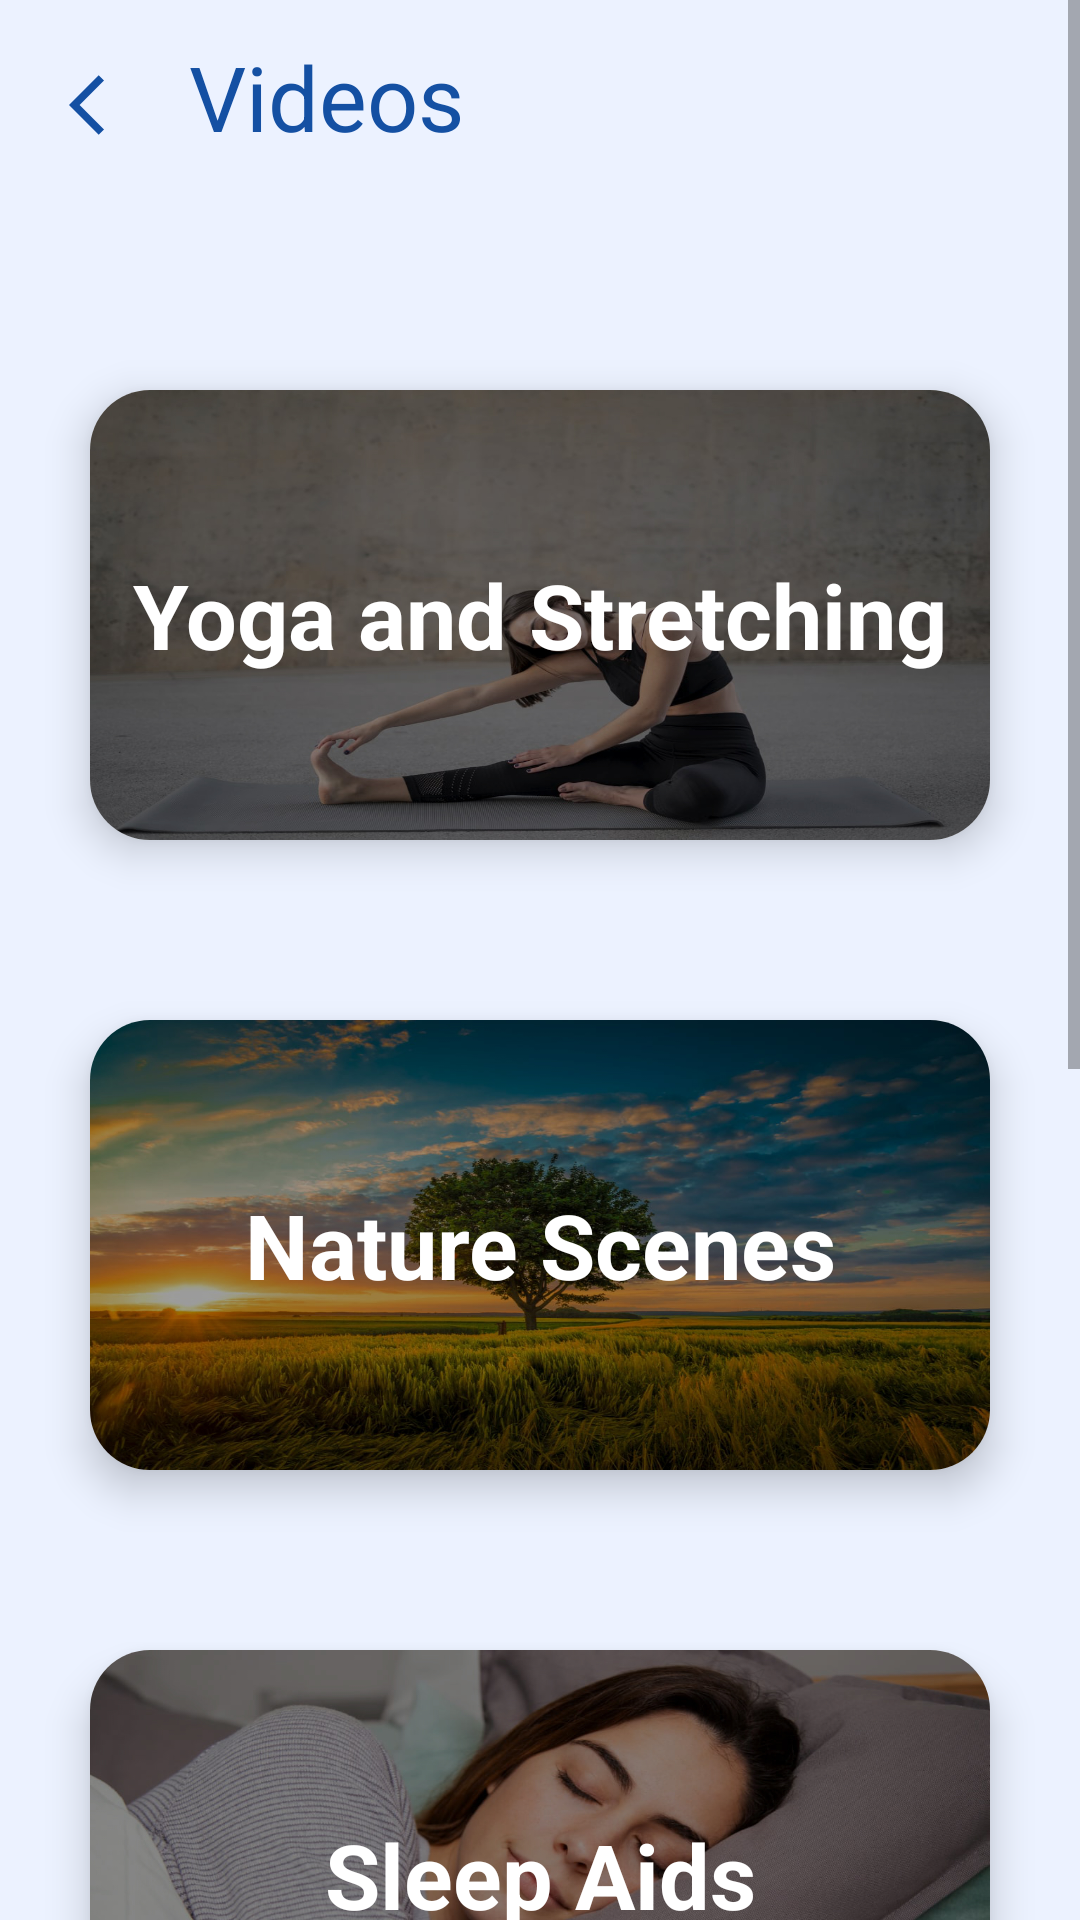

Icons on this 1080x1920 Android screen, each with the point to tap as (x,y):
back arrow: (86,105)
